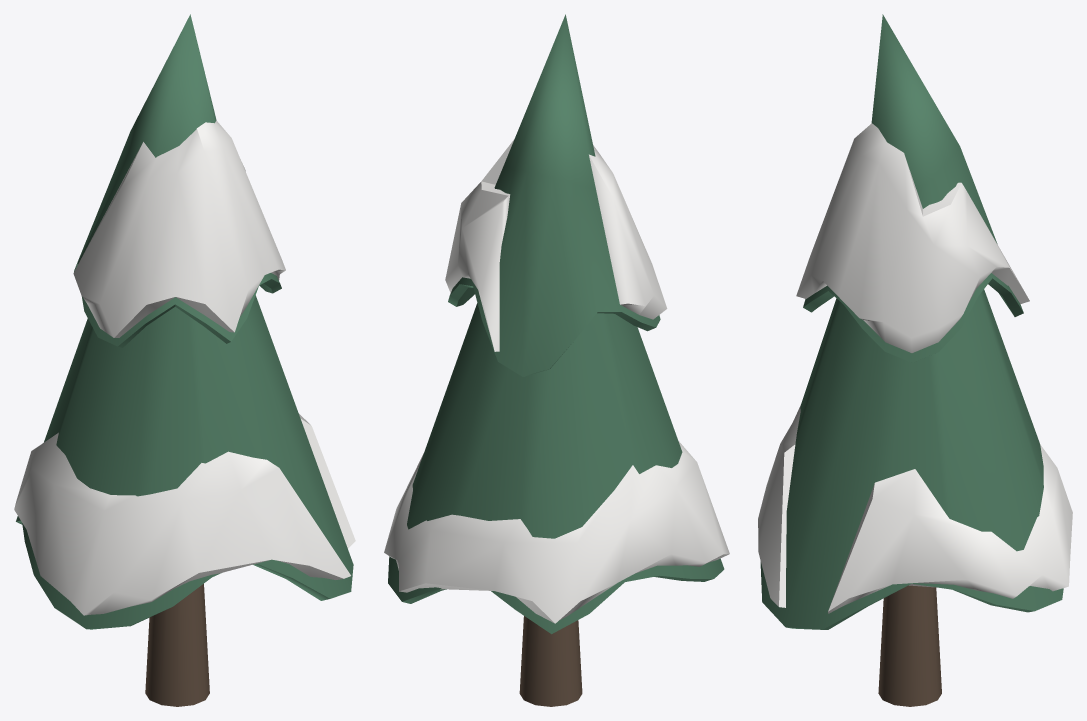
Rendered from Tree_3.glb.
3 views of the same model, side by side, from view 1: azimuth 30°, elevation 25°; view 2: azimuth 150°, elevation 25°; view 3: azimuth 270°, elevation 25° (orthographic). The views are drawn at different scales.
Visible parts, largest first — view 1: Tree_3; view 2: Tree_3; view 3: Tree_3.
Boxes of the visible parts, x1,y1,x2,y2 form: Tree_3: [14, 14, 355, 706]; Tree_3: [384, 14, 729, 706]; Tree_3: [758, 14, 1072, 706].
Bounding box in the file's own units: 1.25 × 2.88 × 1.21.
1 material, 1 textured.
